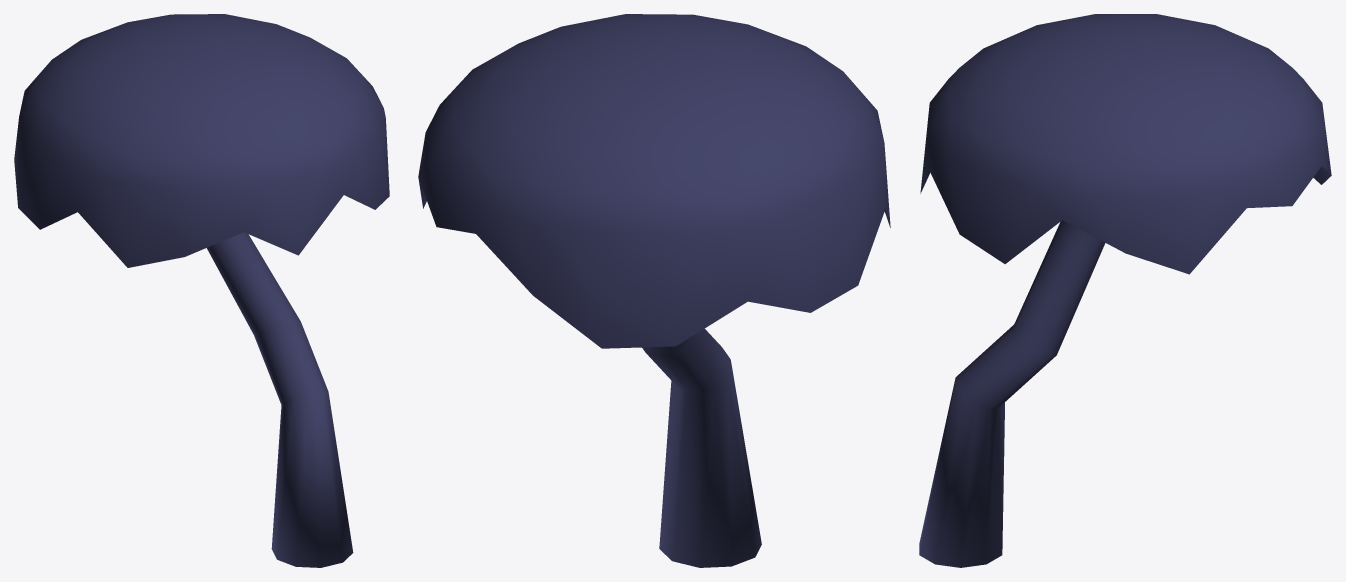
The model's file is treebob.fbx.
The picture shows the model from 3 angles, left to right: view 1: azimuth 30°, elevation 25°; view 2: azimuth 150°, elevation 25°; view 3: azimuth 270°, elevation 25°; orthographic projection. The views are drawn at different scales.
Parts seen in each view (by area): view 1: treebob; view 2: treebob; view 3: treebob.
Boxes of the visible parts, left/top/right/bottom form: treebob: left=14, top=14, right=389, bottom=567; treebob: left=418, top=14, right=890, bottom=567; treebob: left=919, top=14, right=1331, bottom=567.
Bounding box in the file's own units: 219 × 296 × 226.
